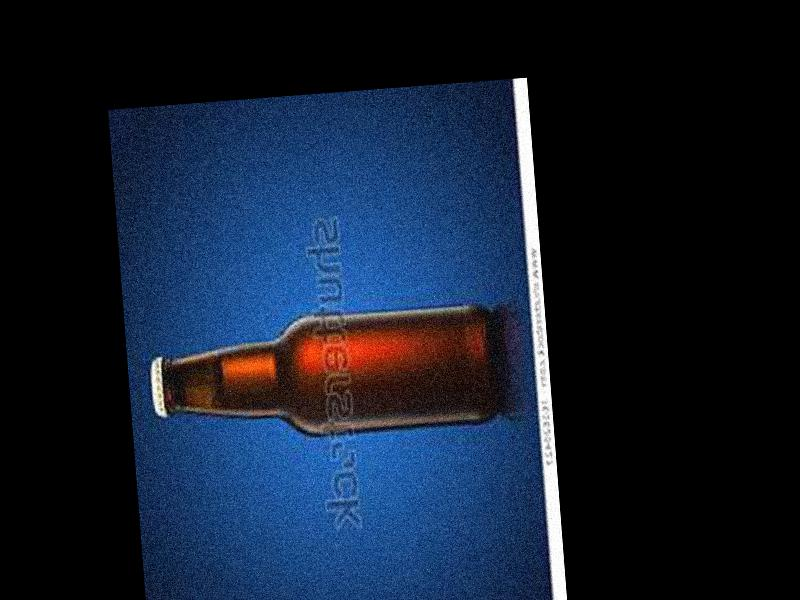Beer: (145, 301, 500, 449)
